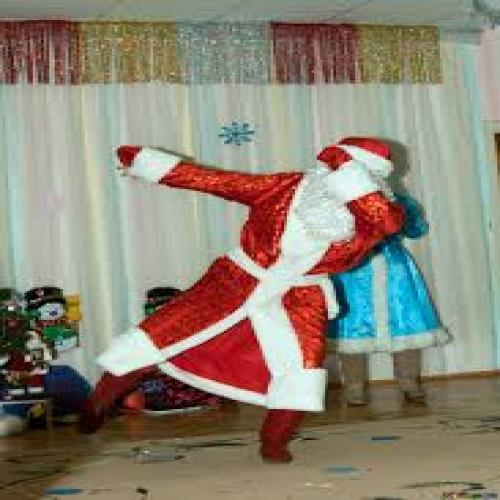Santa: (76, 134, 410, 466)
